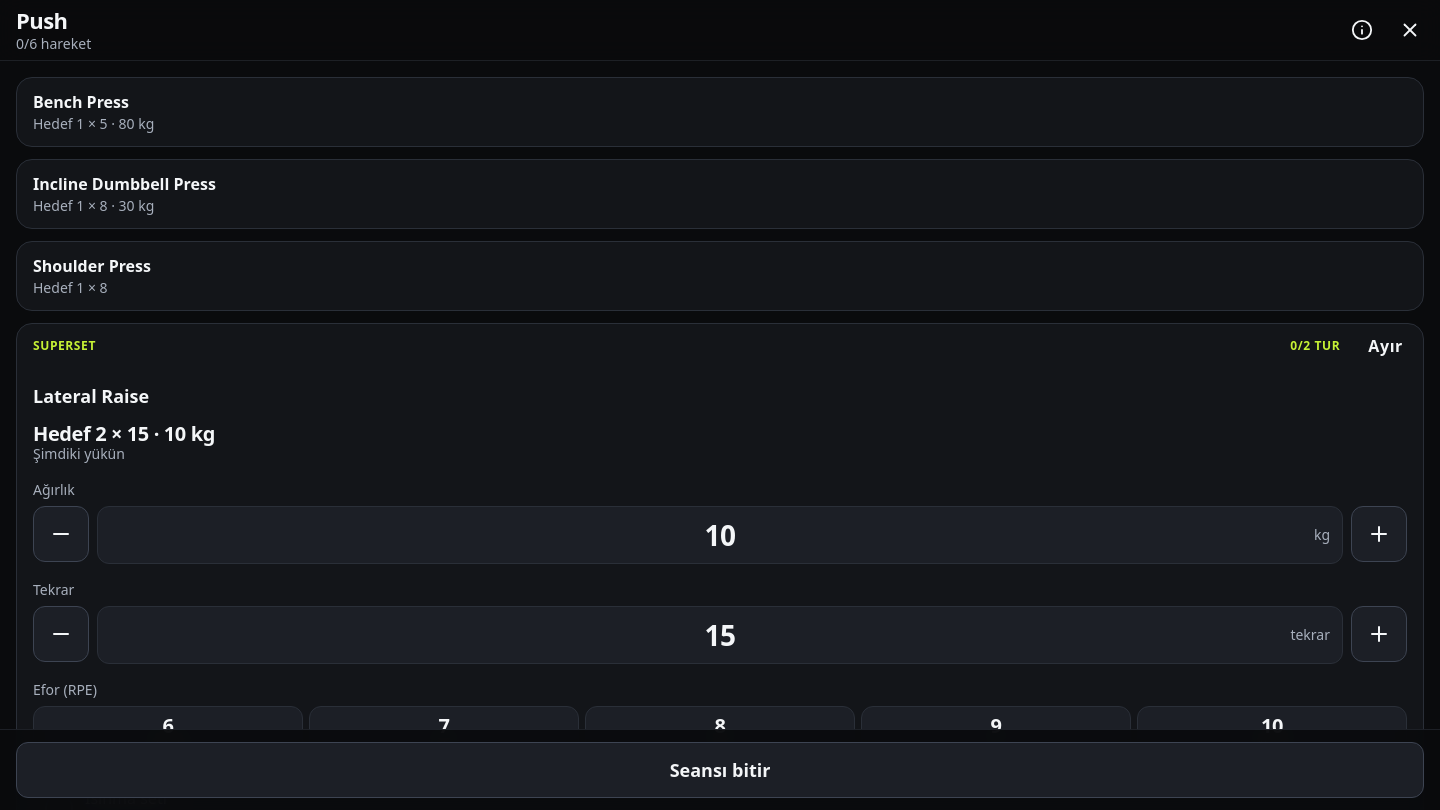
SessionScreen with a running session › a split superset is done one exercise at a time and rejoined on demand
Click the button with aria-label "Superset'i ayır": (1386, 346) [1352, 324, 1419, 368]
(page scrolled)
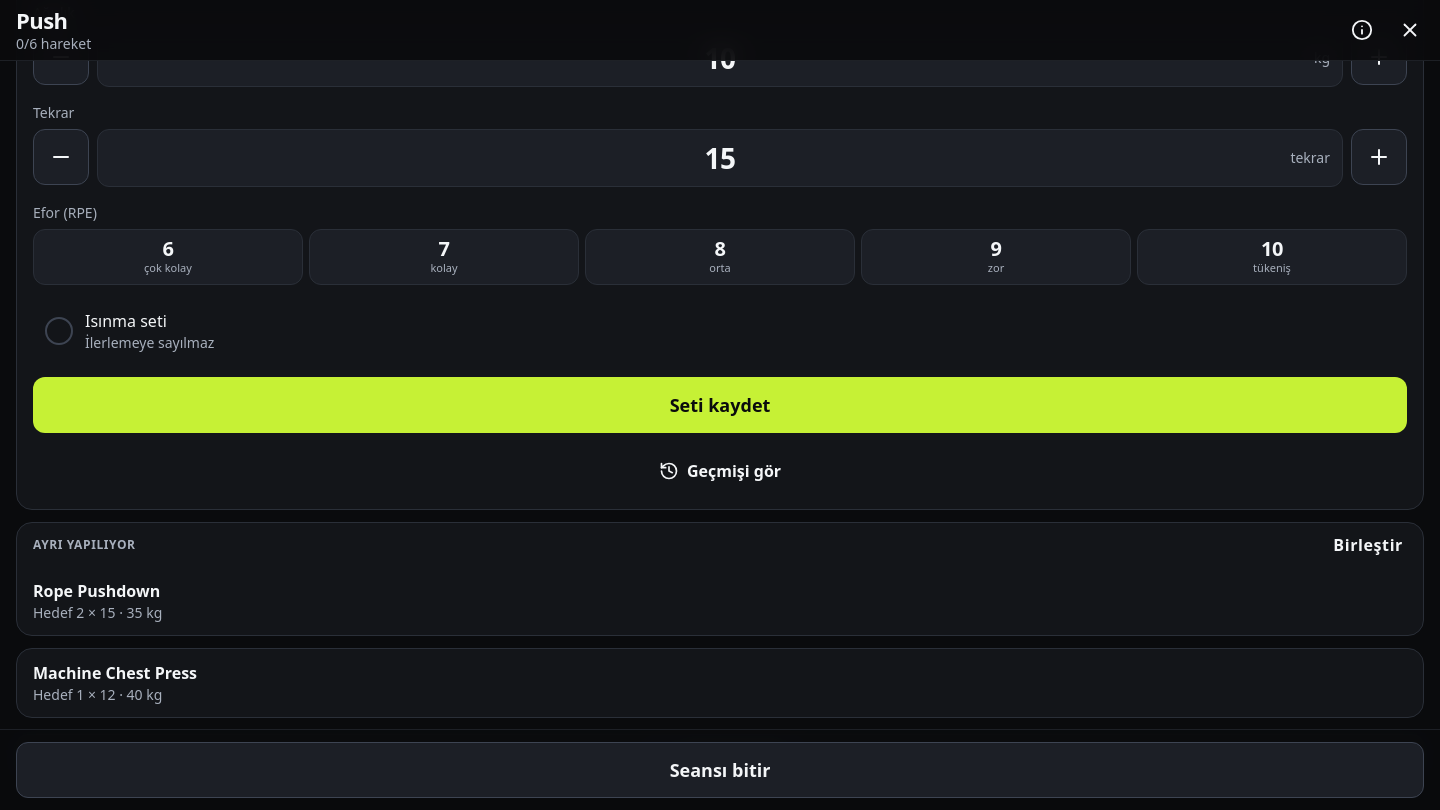
Expected: the text "tur" is gone
Click the button "Seti kaydet": (720, 405) [33, 377, 1407, 433]
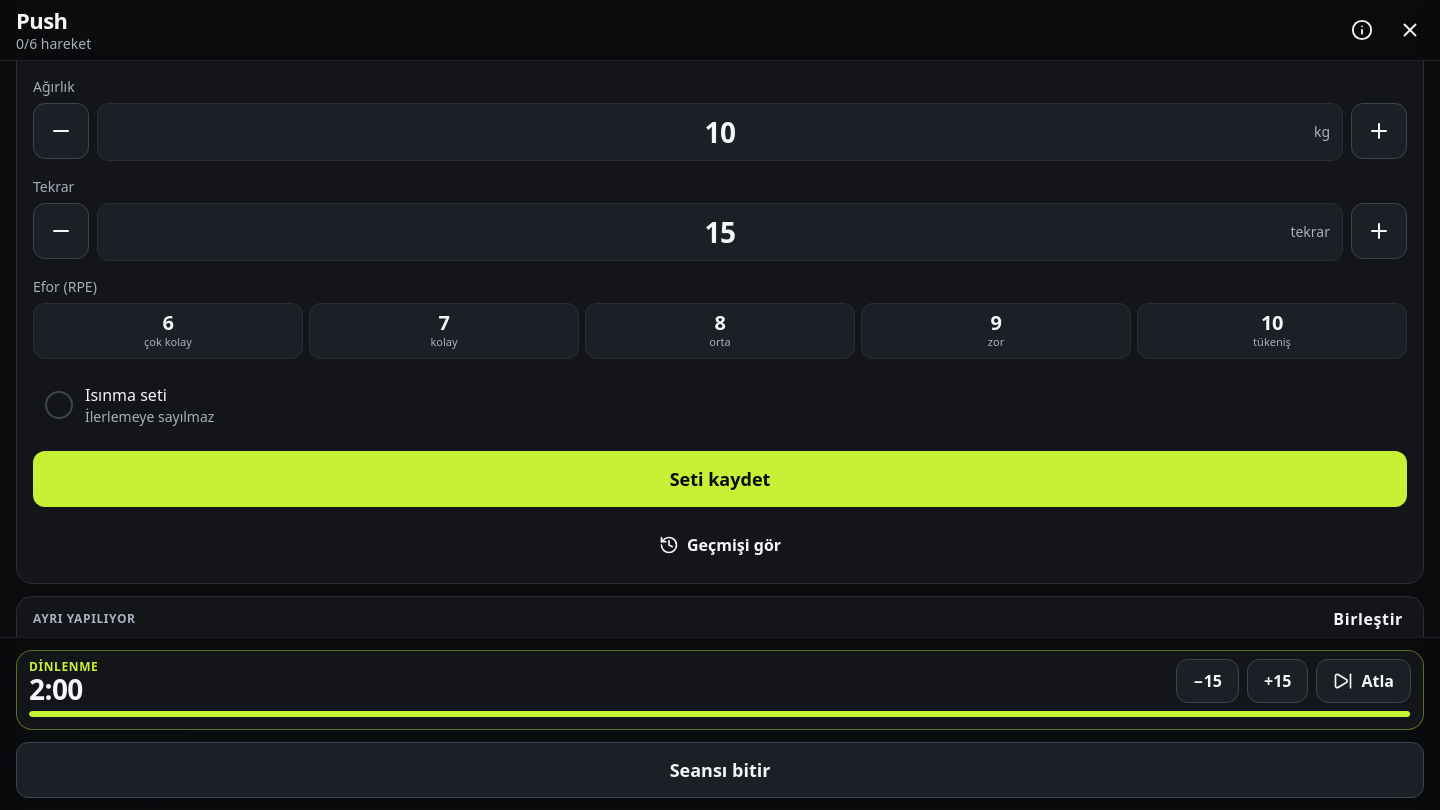
Click the button "Seti kaydet": (720, 479) [33, 451, 1407, 507]
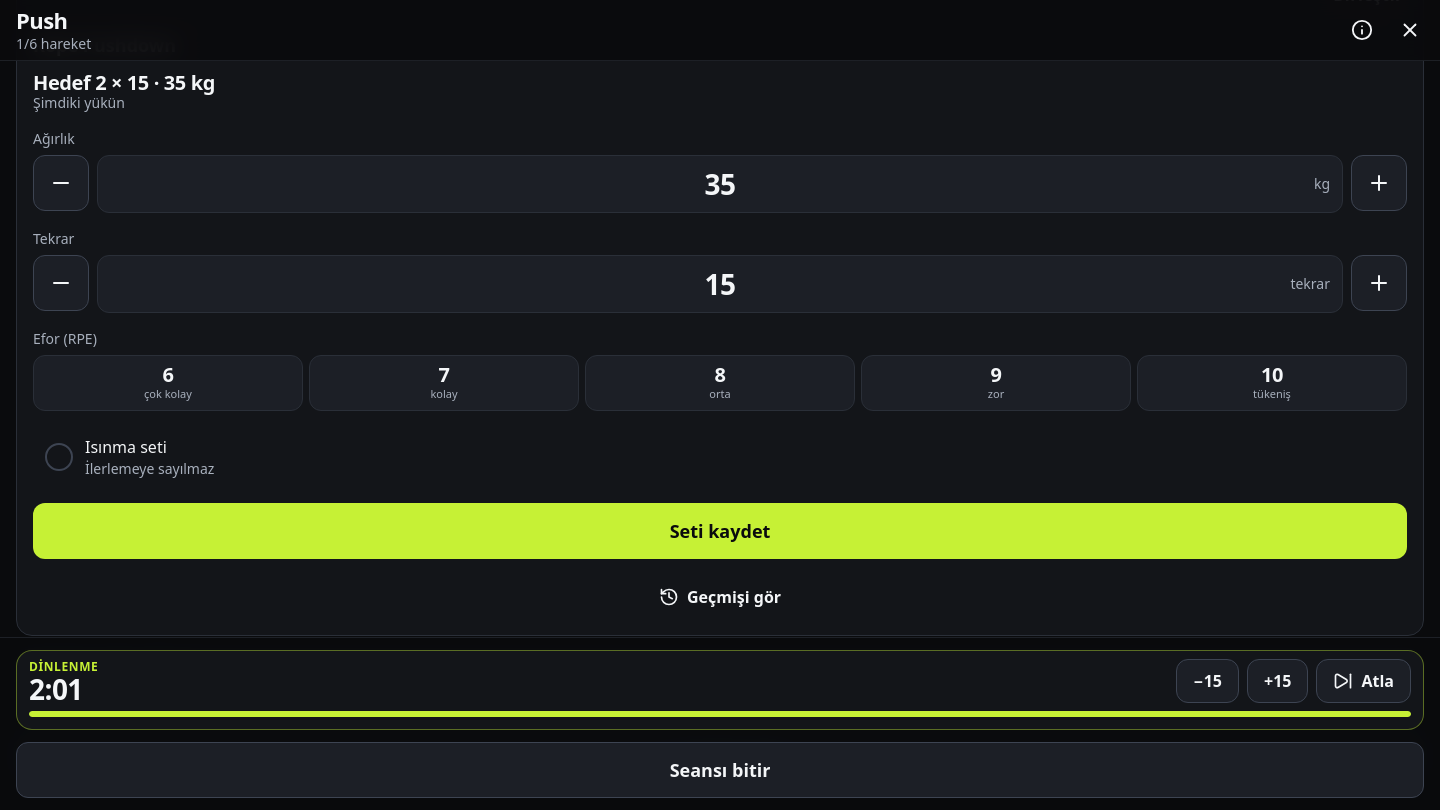
Click the button "Seti kaydet": (720, 531) [33, 503, 1407, 559]
(page scrolled)
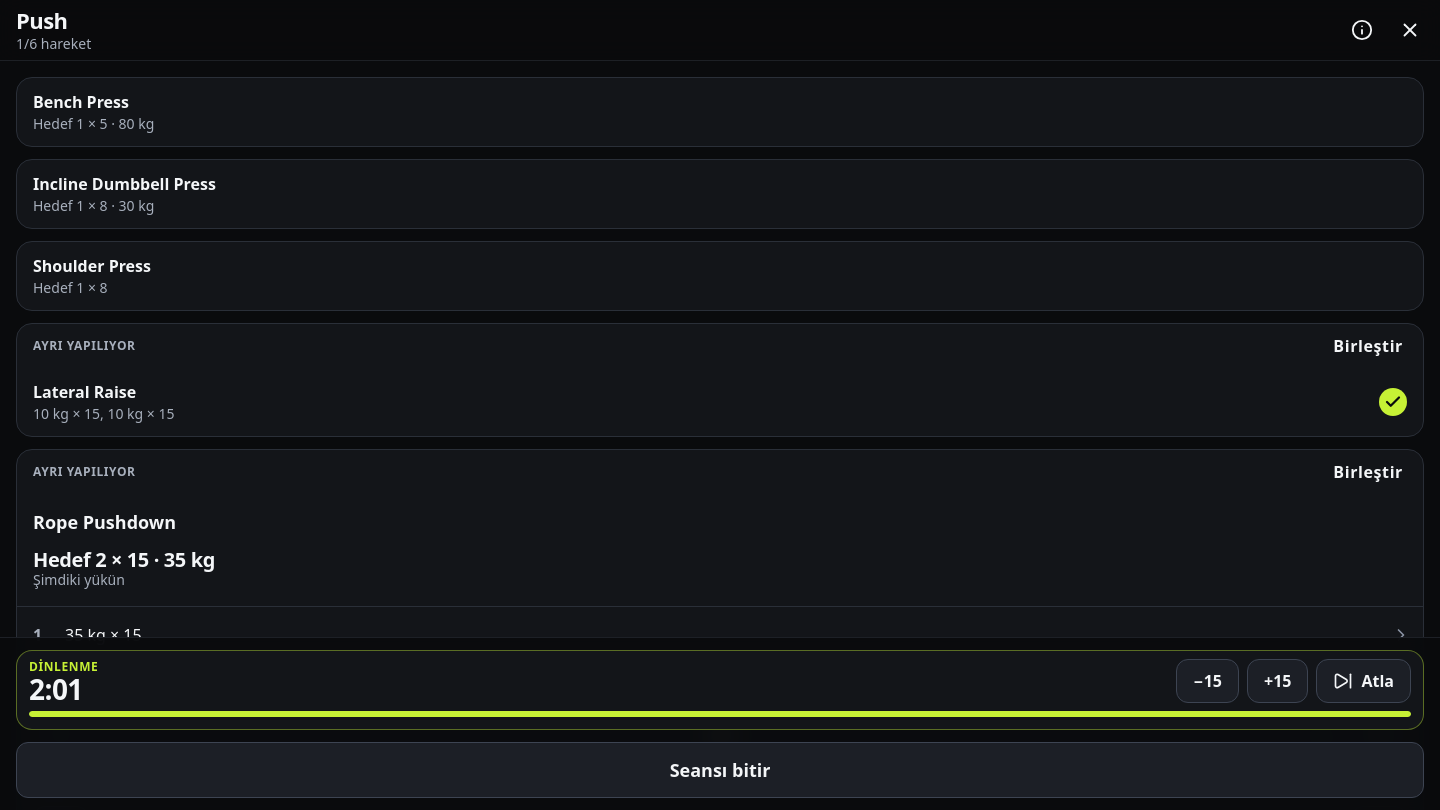
Click the button with aria-label "Lateral Raise: superset'e geri al": (1368, 346) [1317, 324, 1419, 368]
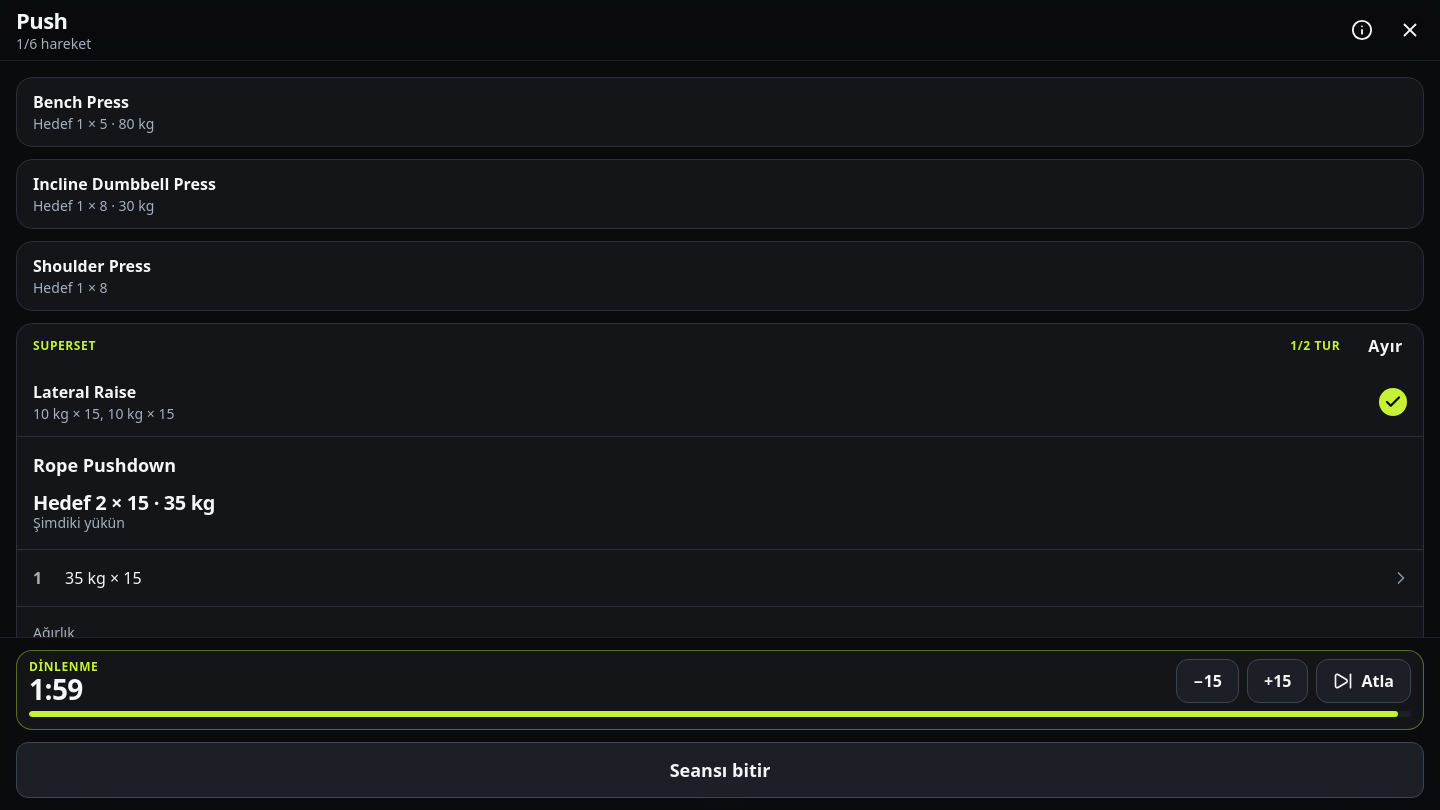
Expected: the text "Superset" is shown, [33, 338, 96, 354]
